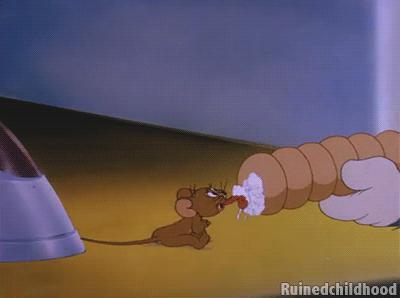jerry: (78, 182, 248, 251)
